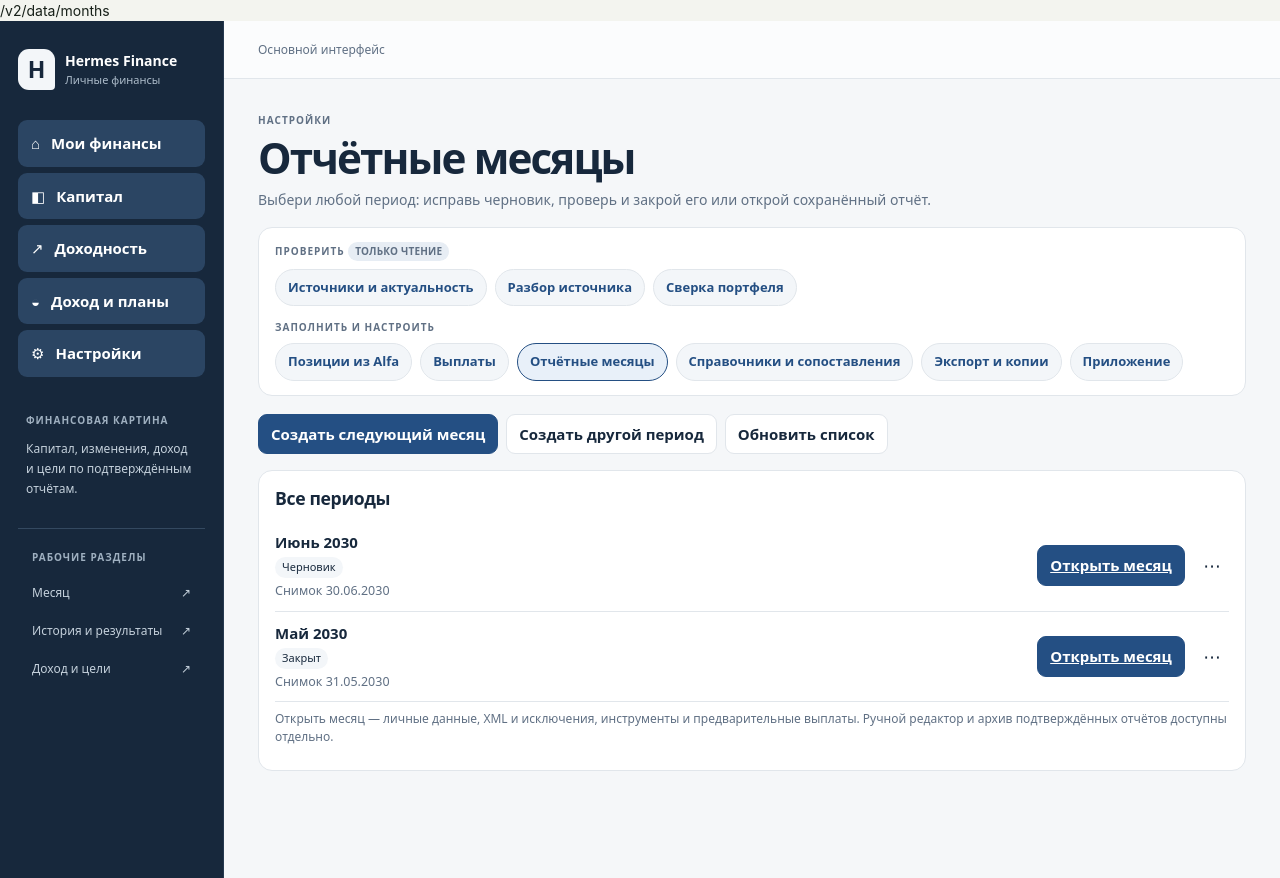
Test: native month management › clones from an exact source to a shown target and keeps failed conflict visible
Step 1. Click the button "Создать следующий месяц" → (378, 434), box 258,414 -> 498,454
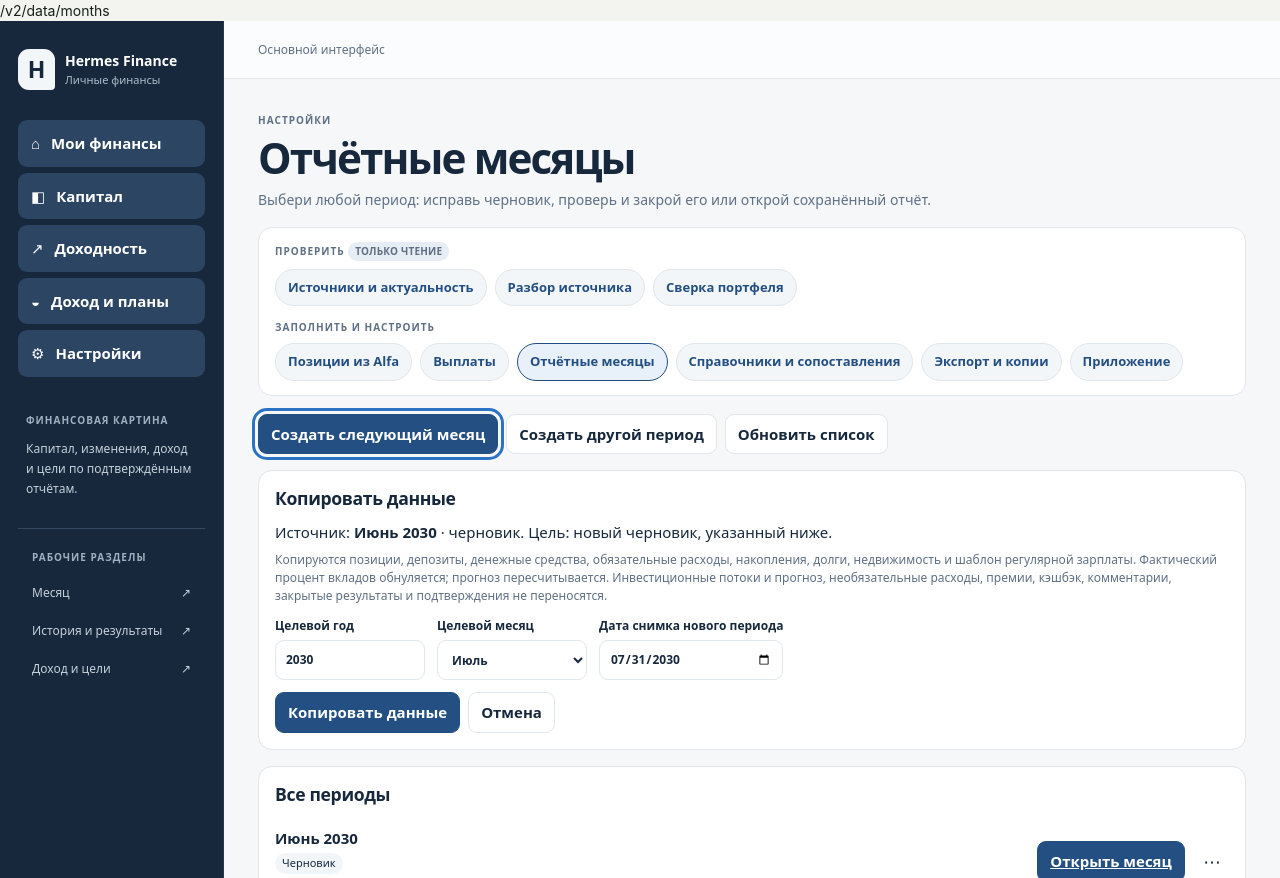
expect the text "Источник:" shows "Июнь 2030": met, box 354,522 -> 437,542
expect the number field labelled "Целевой год" holds "2030": met, box 275,640 -> 425,680
expect the dropdown labelled "Целевой месяц" shows "Июль": met, box 437,640 -> 587,680
Step 2. Click the button "Копировать данные" → (368, 713), box 275,692 -> 460,733
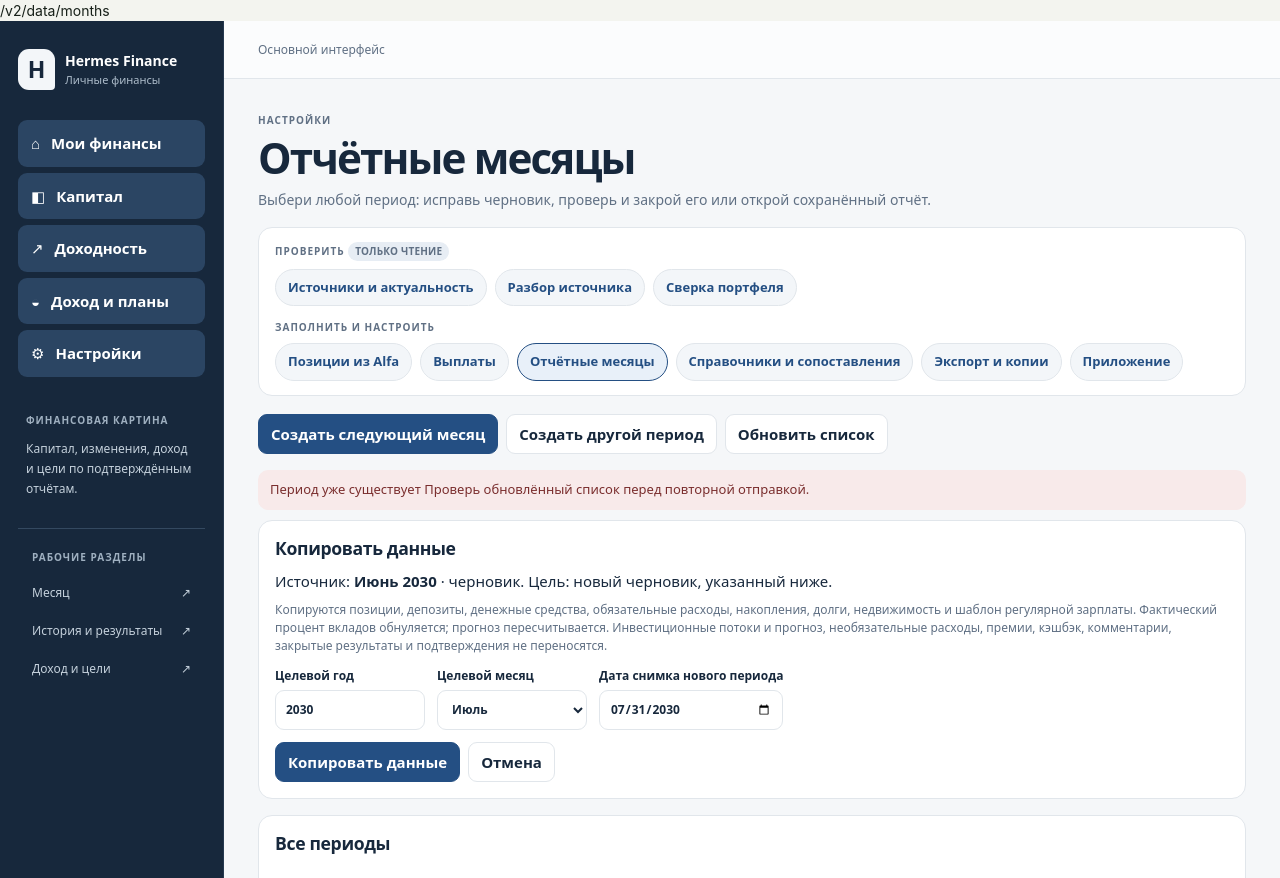
expect the text with test id "location" reads "/v2/data/months": met, box 0,2 -> 110,19
expect the text "Период уже существует Проверь обновлённый список перед повторной отправкой." is shown: met, box 258,470 -> 1246,510
